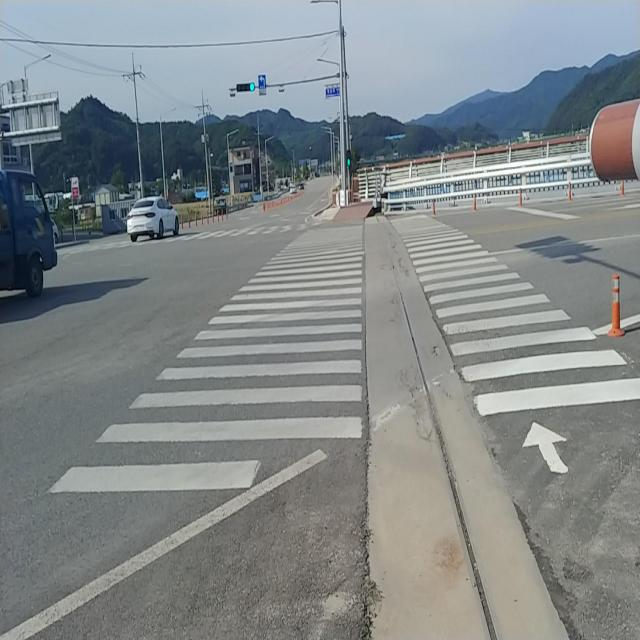초록불: (344, 146, 354, 174)
횡단보도: (45, 210, 640, 498)
